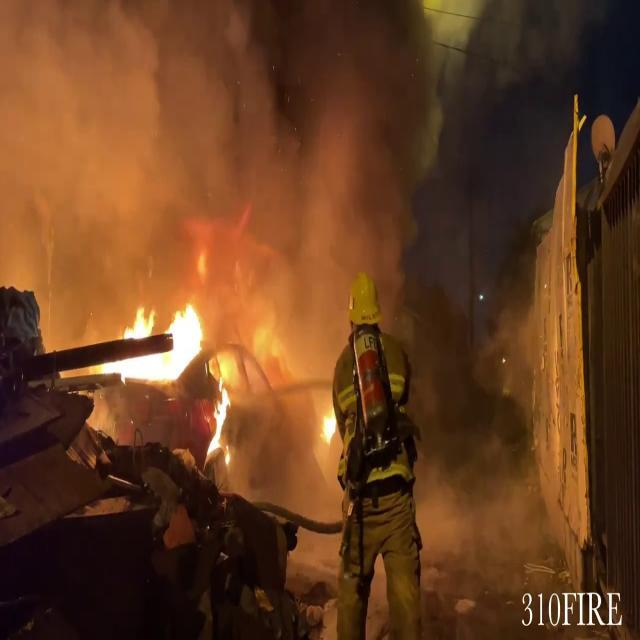Fire: (107, 293, 237, 435), (318, 395, 341, 449)
Smoke: (1, 0, 446, 310)
